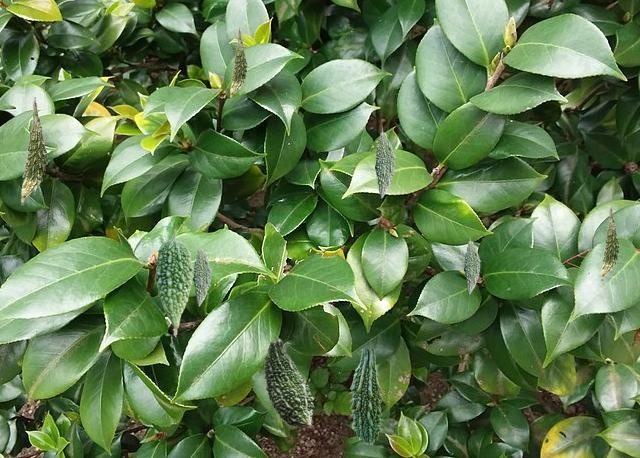ampalaya: (264, 337, 313, 426), (154, 229, 192, 336), (349, 349, 381, 443), (21, 97, 46, 204), (375, 126, 394, 197), (601, 205, 618, 280), (230, 27, 246, 98), (193, 243, 210, 305), (464, 236, 479, 293)
